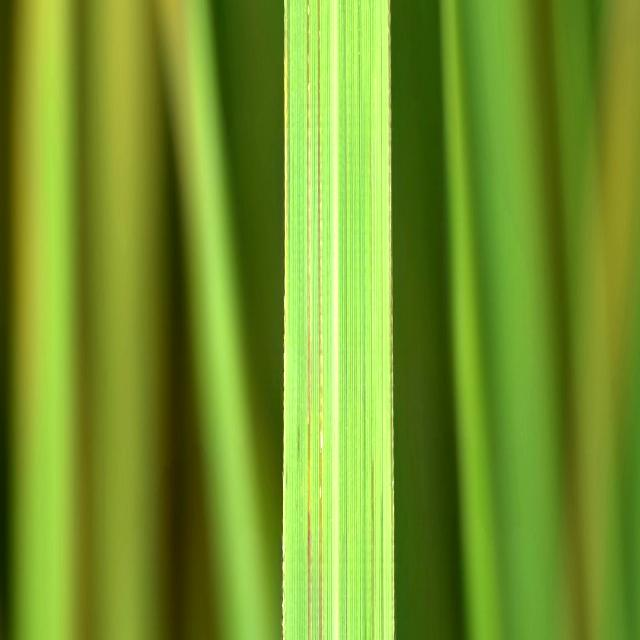BLS: (282, 0, 288, 640), (318, 0, 323, 640), (306, 0, 311, 640), (380, 473, 384, 640), (372, 436, 375, 640), (369, 0, 370, 7)
